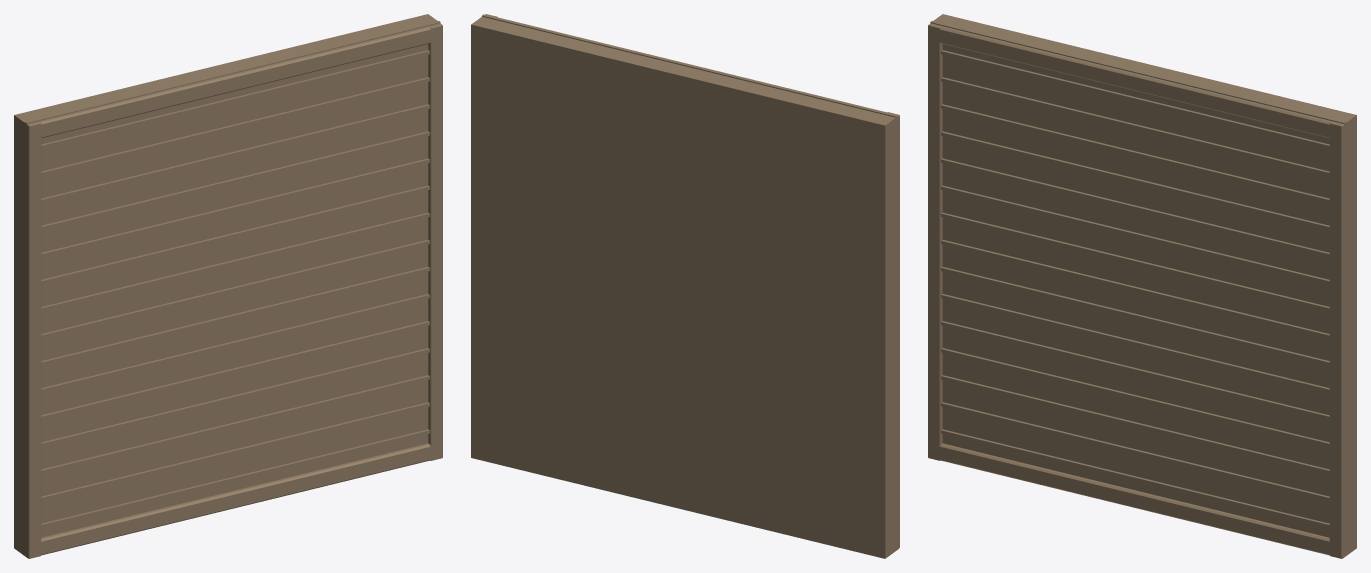
The model's file is SM_AT_Wall_Siding_4x4.fbx.
3 renders of one model, left to right at view 1: azimuth 30°, elevation 25°; view 2: azimuth 150°, elevation 25°; view 3: azimuth 330°, elevation 25°, orthographic.
Visible parts, largest first — view 1: SM_AT_Wall_Siding_4x4; view 2: SM_AT_Wall_Siding_4x4; view 3: SM_AT_Wall_Siding_4x4.
Part boxes in pixels (x1,y1,x2,y2): SM_AT_Wall_Siding_4x4: [14, 14, 442, 558]; SM_AT_Wall_Siding_4x4: [471, 14, 899, 558]; SM_AT_Wall_Siding_4x4: [928, 14, 1356, 558].
Bounding box in the file's own units: 4 × 4.01 × 0.25.
